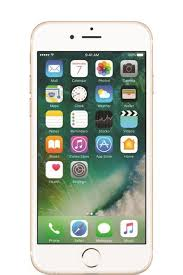iphone6: (25, 15, 156, 275), (25, 16, 156, 273)
